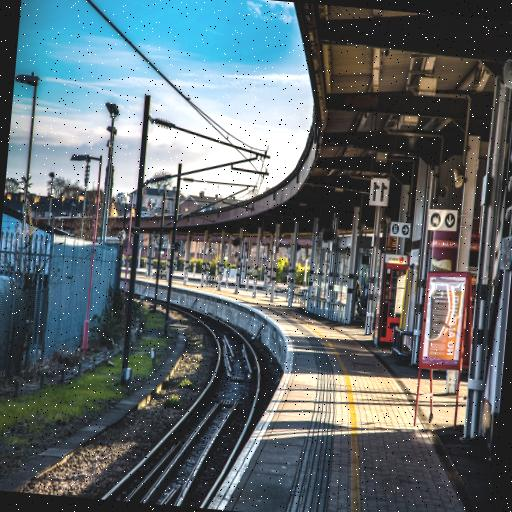platform_edge: (224, 286, 403, 512)
